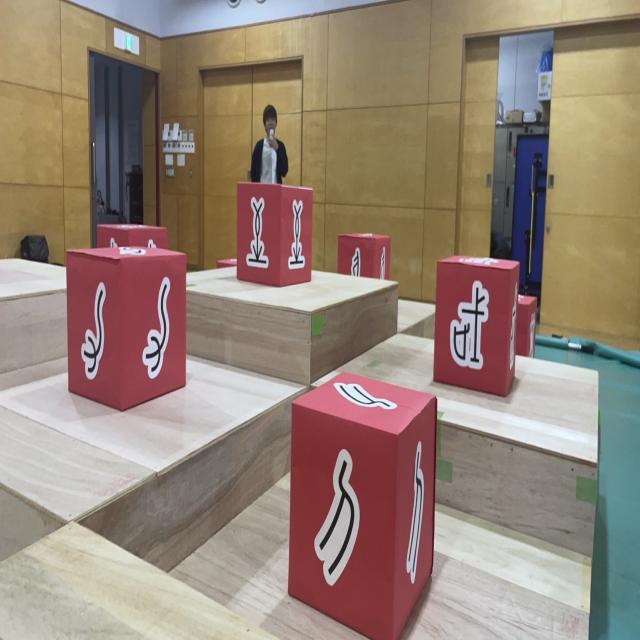10: (314, 448, 361, 588), (406, 439, 425, 587), (332, 382, 398, 411)
11: (350, 246, 361, 278), (380, 248, 385, 280)
13: (141, 274, 171, 380), (81, 281, 107, 380)
5: (450, 278, 490, 371)
6: (528, 312, 535, 358)
7: (246, 196, 270, 270), (287, 198, 306, 272)
fighter: (289, 370, 437, 640), (65, 246, 187, 412), (433, 254, 520, 397), (237, 182, 313, 287), (338, 233, 391, 280), (96, 223, 168, 250), (516, 294, 537, 358), (217, 256, 237, 266)
